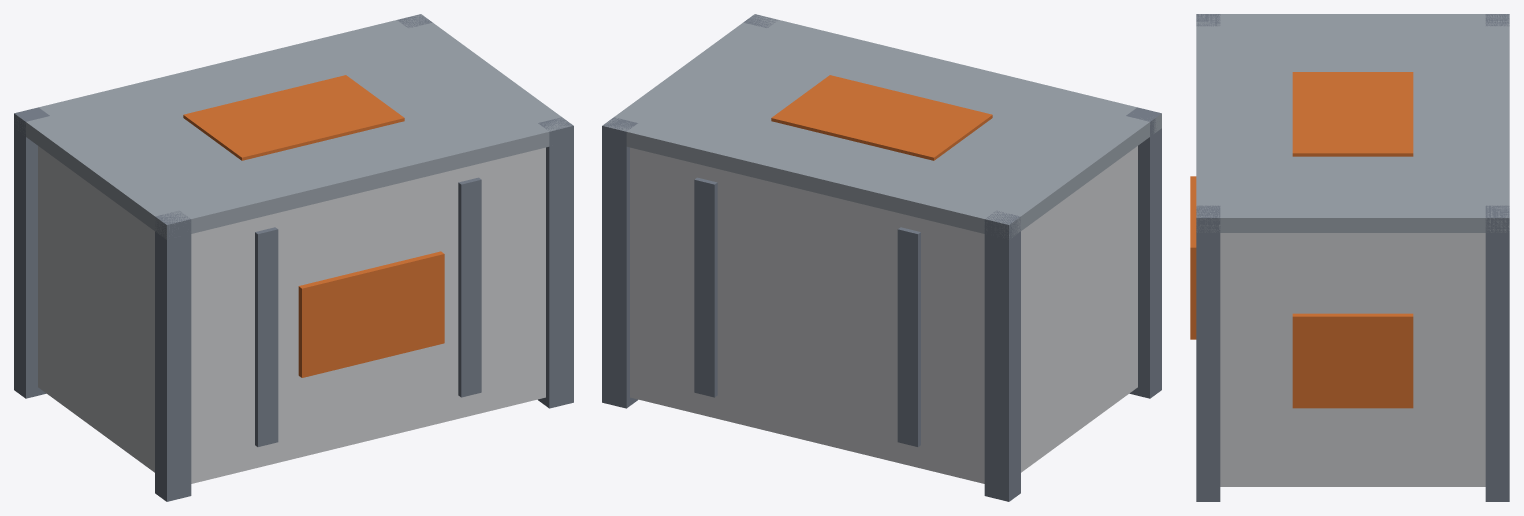
Rendered from container_wait.glb.
The picture shows the model from 3 angles, left to right: view 1: azimuth 30°, elevation 25°; view 2: azimuth 150°, elevation 25°; view 3: azimuth 270°, elevation 25°; orthographic projection. The views are drawn at different scales.
Visible parts, largest first — view 1: container_wait; view 2: container_wait; view 3: container_wait.
Part boxes in pixels (bbox=[...]): container_wait: bbox=[14, 14, 573, 501]; container_wait: bbox=[602, 14, 1161, 501]; container_wait: bbox=[1190, 14, 1509, 501].
Bounding box in the file's own units: 2.02 × 1.31 × 1.33.
